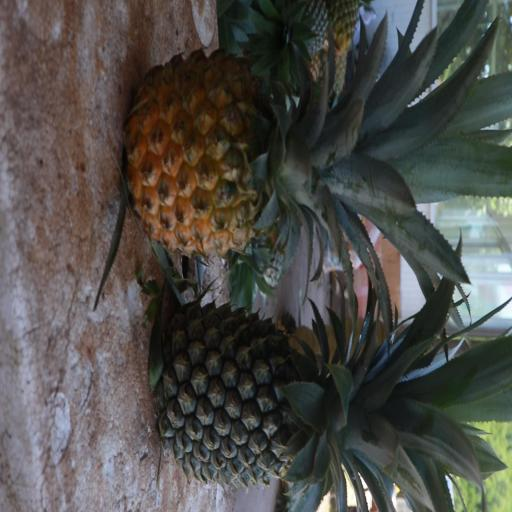Pineapple - v8 v1: (128, 60, 452, 256)
